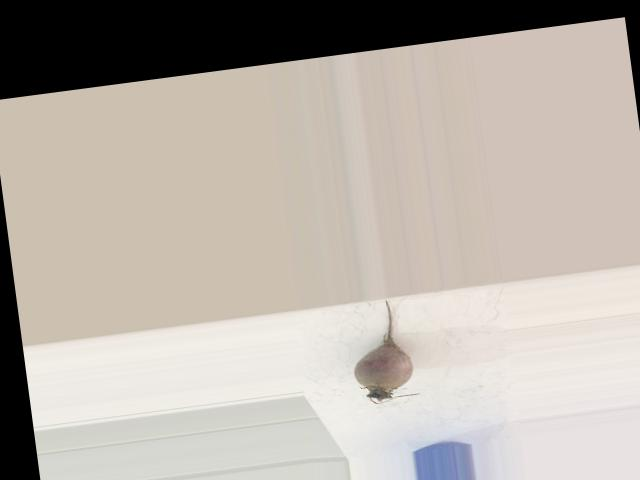beet: (346, 297, 421, 406)
